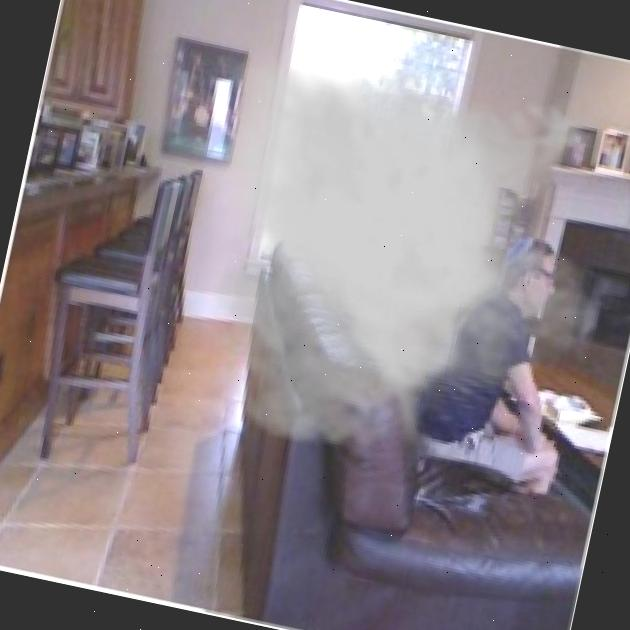smoke: (150, 23, 630, 504)
